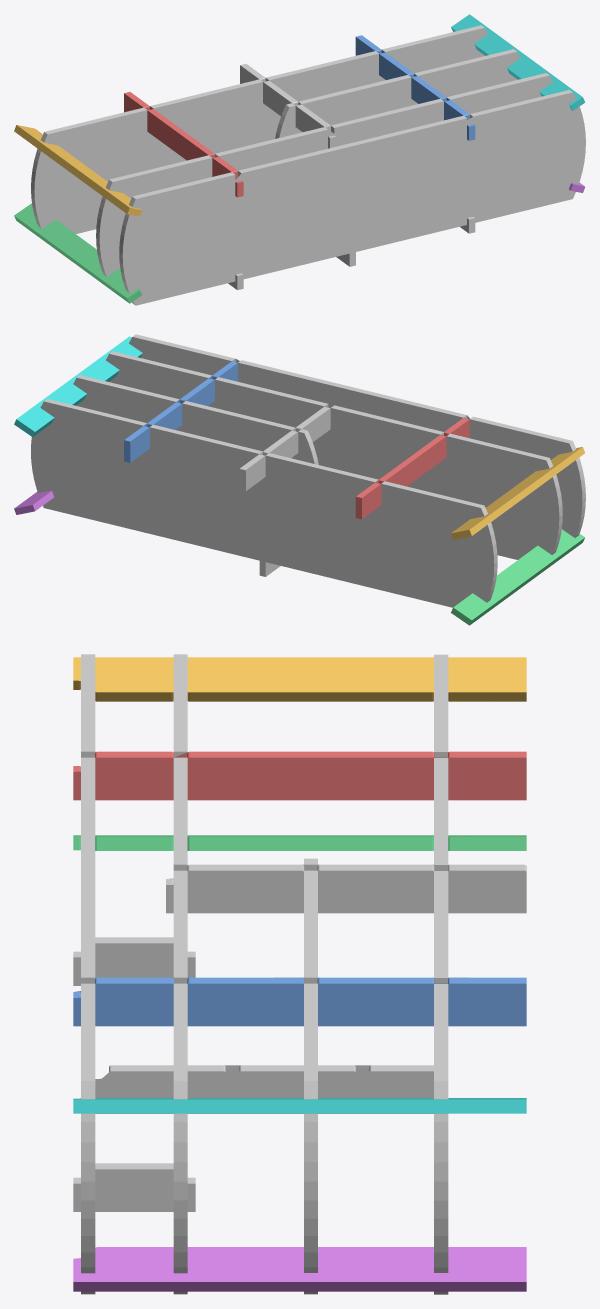
Rendered from NODO_RACK_DIAGNOSTICO_6_PATAS_COLORES.glb.
3 renders of one model, top to bottom at view 1: azimuth 30°, elevation 25°; view 2: azimuth 150°, elevation 25°; view 3: azimuth 270°, elevation 25°, orthographic. The views are drawn at different scales.
Visible parts, largest first — view 1: A, C, B, D, F_left_front, F_rear, G_right_rear, G_rear, F_left_rear, H_rear; view 2: C, B, A, D, F_left_front, F_rear, G_right_rear, G_rear, F_left_rear, H_rear, G_right_front; view 3: F_rear, G_rear, G_right_front, F_left_rear, H_rear, H_front, A, C, B, G_right_rear, F_left_front, D (+2 smaller).
Boxes of the visible parts, bbox=[...] form: A: bbox=[119, 90, 585, 305]; C: bbox=[31, 25, 487, 233]; B: bbox=[96, 73, 552, 276]; D: bbox=[275, 49, 520, 138]; F_left_front: bbox=[14, 203, 141, 303]; F_rear: bbox=[124, 92, 243, 197]; G_right_rear: bbox=[451, 14, 585, 110]; G_rear: bbox=[355, 35, 475, 140]; F_left_rear: bbox=[14, 125, 141, 216]; H_rear: bbox=[240, 63, 336, 148]; C: bbox=[31, 399, 497, 607]; B: bbox=[106, 351, 562, 559]; A: bbox=[129, 334, 585, 537]; D: bbox=[73, 375, 318, 464]; F_left_front: bbox=[451, 529, 584, 625]; F_rear: bbox=[355, 418, 469, 519]; G_right_rear: bbox=[14, 336, 142, 437]; G_rear: bbox=[124, 361, 237, 462]; F_left_rear: bbox=[451, 447, 584, 539]; H_rear: bbox=[240, 406, 330, 490]; G_right_front: bbox=[14, 490, 54, 514]; F_rear: bbox=[73, 751, 526, 800]; G_rear: bbox=[73, 977, 526, 1026]; G_right_front: bbox=[73, 1247, 526, 1291]; F_left_rear: bbox=[73, 657, 526, 701]; H_rear: bbox=[166, 864, 526, 913]; H_front: bbox=[95, 1065, 433, 1113]; A: bbox=[81, 654, 95, 1294]; C: bbox=[434, 654, 448, 1294]; B: bbox=[173, 654, 187, 1294]; G_right_rear: bbox=[73, 1098, 526, 1113]; F_left_front: bbox=[73, 835, 526, 850]; D: bbox=[304, 858, 317, 1294].
Bounding box in the file's own units: 1364 × 342 × 578.
